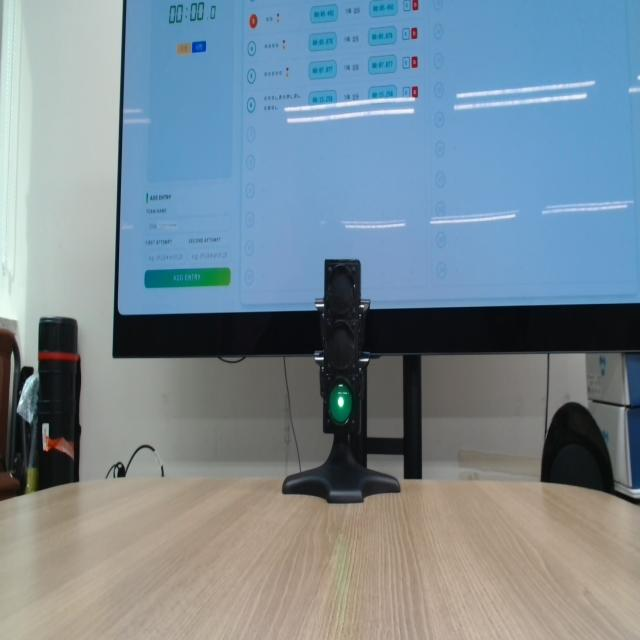green_light: (329, 383, 353, 425)
